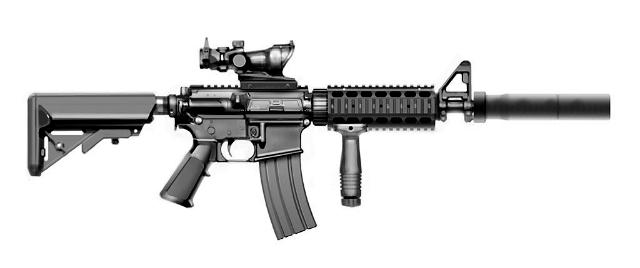rifle: (21, 29, 619, 245)
